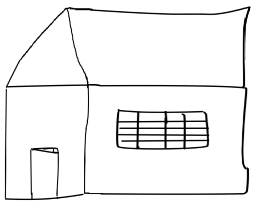big_house: (1, 1, 260, 208)
closed_window: (110, 106, 216, 155)
door: (24, 141, 65, 203)
roof: (5, 5, 255, 92)
wall: (80, 80, 248, 199)
